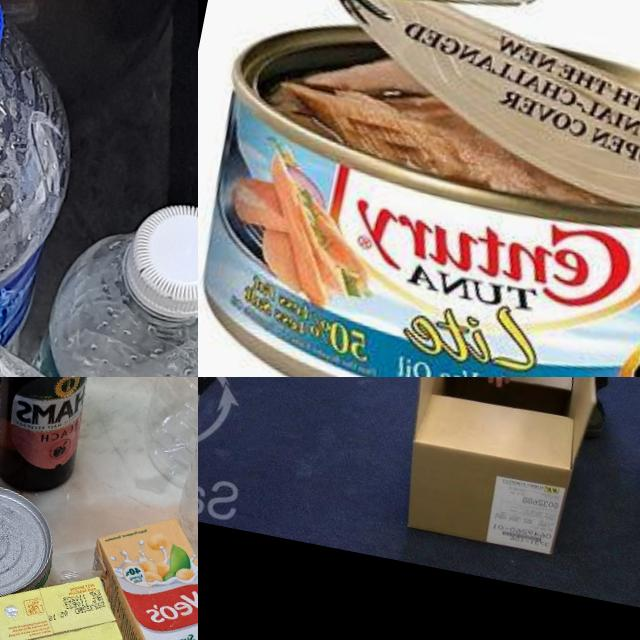aba de lata: (314, 0, 554, 30)
caixinha: (62, 508, 198, 640), (0, 553, 151, 640), (0, 555, 134, 640)
garrafa de vidro: (0, 377, 103, 495)
garrafa plástica: (0, 0, 96, 377), (0, 224, 198, 377), (0, 292, 198, 377), (130, 377, 198, 499)
lata: (198, 0, 640, 377), (0, 475, 60, 640)
papelão: (390, 377, 616, 560)
tampa plástica: (114, 189, 198, 328)
